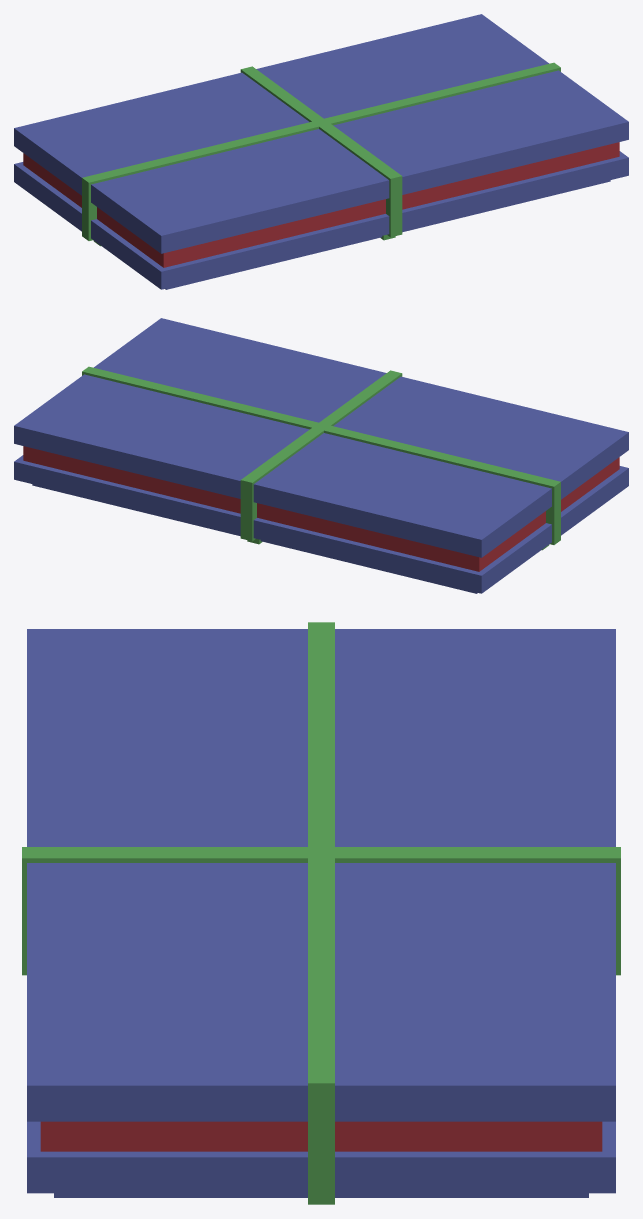
Rendered from SM_MovingPlatform_04.fbx.
3 renders of one model, top to bottom at view 1: azimuth 30°, elevation 25°; view 2: azimuth 150°, elevation 25°; view 3: azimuth 270°, elevation 25°, orthographic. The views are drawn at different scales.
Parts seen in each view (by area): view 1: SM_MovingPlatform_04; view 2: SM_MovingPlatform_04; view 3: SM_MovingPlatform_04.
Part boxes in pixels (x1,y1,x2,y2): SM_MovingPlatform_04: (14,14,628,289); SM_MovingPlatform_04: (14,318,628,593); SM_MovingPlatform_04: (22,622,620,1204).
Size of the model in its own units: 404 by 54.3 by 222.
